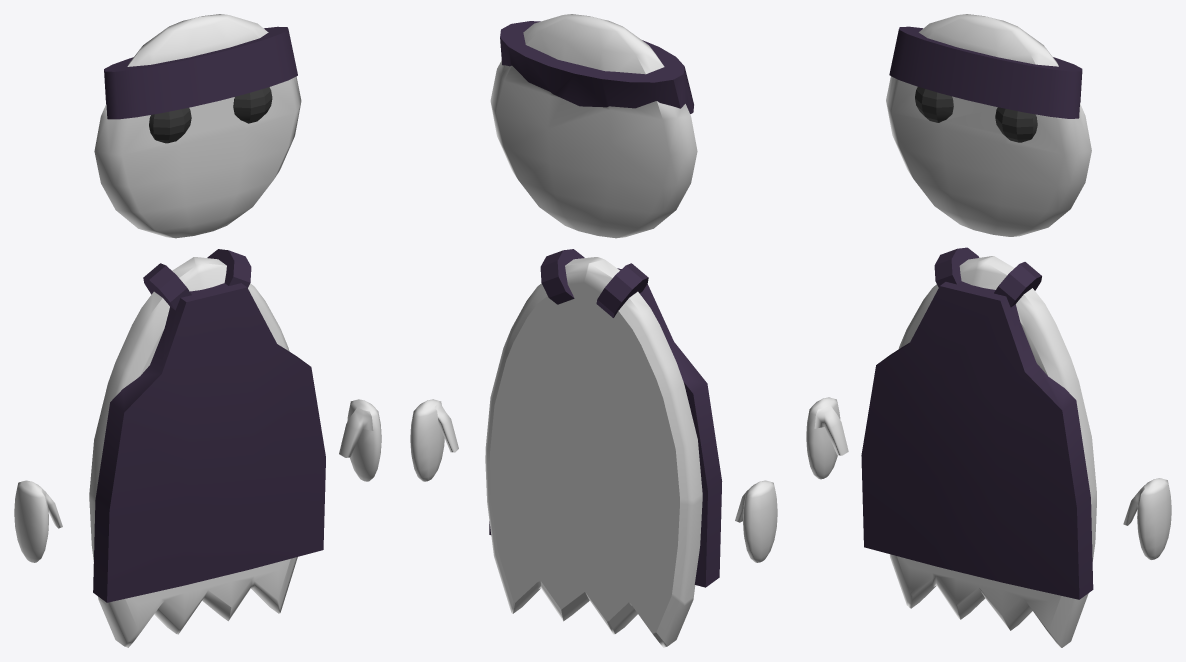
The model's file is blacksmith.fbx.
3 views of the same model, side by side, from view 1: azimuth 30°, elevation 25°; view 2: azimuth 150°, elevation 25°; view 3: azimuth 330°, elevation 25° (orthographic).
Parts seen in each view (by area): view 1: base_hand_left1; view 2: base_hand_left1; view 3: base_hand_left1.
Boxes of the visible parts, left/top/right/bottom form: base_hand_left1: left=14, top=14, right=381, bottom=647; base_hand_left1: left=410, top=14, right=777, bottom=647; base_hand_left1: left=806, top=14, right=1171, bottom=647.
Size of the model in its own units: 14.98 by 24.61 by 3.15.
